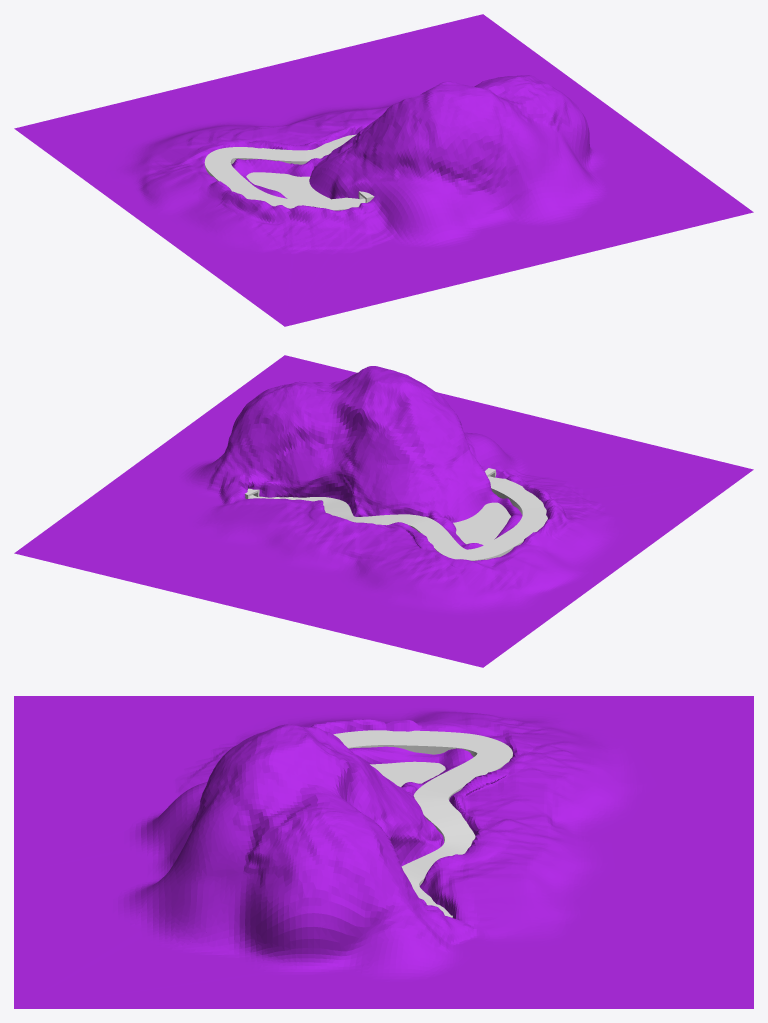
Rendered from generic_track.fbx.
The picture shows the model from 3 angles, top to bottom: view 1: azimuth 30°, elevation 25°; view 2: azimuth 150°, elevation 25°; view 3: azimuth 270°, elevation 25°; orthographic projection. The views are drawn at different scales.
Visible parts, largest first — view 1: Plane.001, NurbsPath.002, Lake; view 2: Plane.001, NurbsPath.002, Lake; view 3: Plane.001, NurbsPath.002, Lake.
Part boxes in pixels (left/top/right/bottom): Plane.001: left=14, top=14, right=753, bottom=326; NurbsPath.002: left=204, top=134, right=365, bottom=210; Lake: left=246, top=172, right=330, bottom=199; Plane.001: left=14, top=355, right=753, bottom=667; NurbsPath.002: left=249, top=476, right=547, bottom=560; Lake: left=453, top=502, right=510, bottom=545; Plane.001: left=14, top=696, right=753, bottom=1008; NurbsPath.002: left=333, top=730, right=512, bottom=915; Lake: left=370, top=761, right=445, bottom=786.
Bounding box in the file's own units: 50000 × 11798 × 50000.
